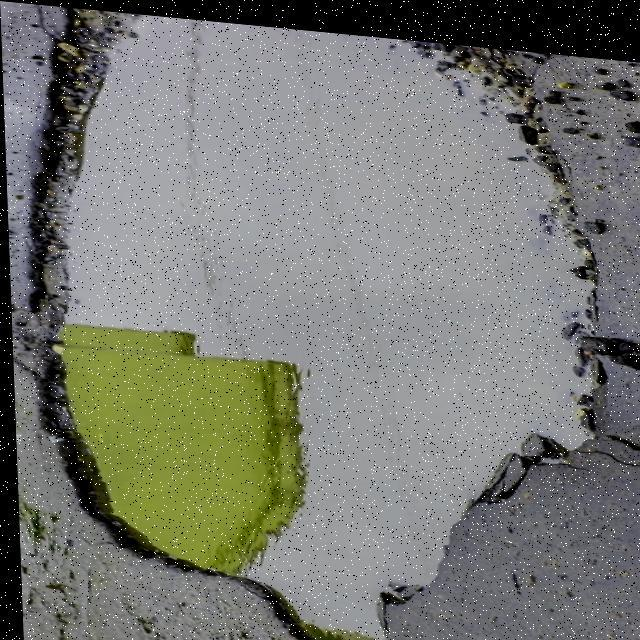pothole: (9, 1, 599, 640)
